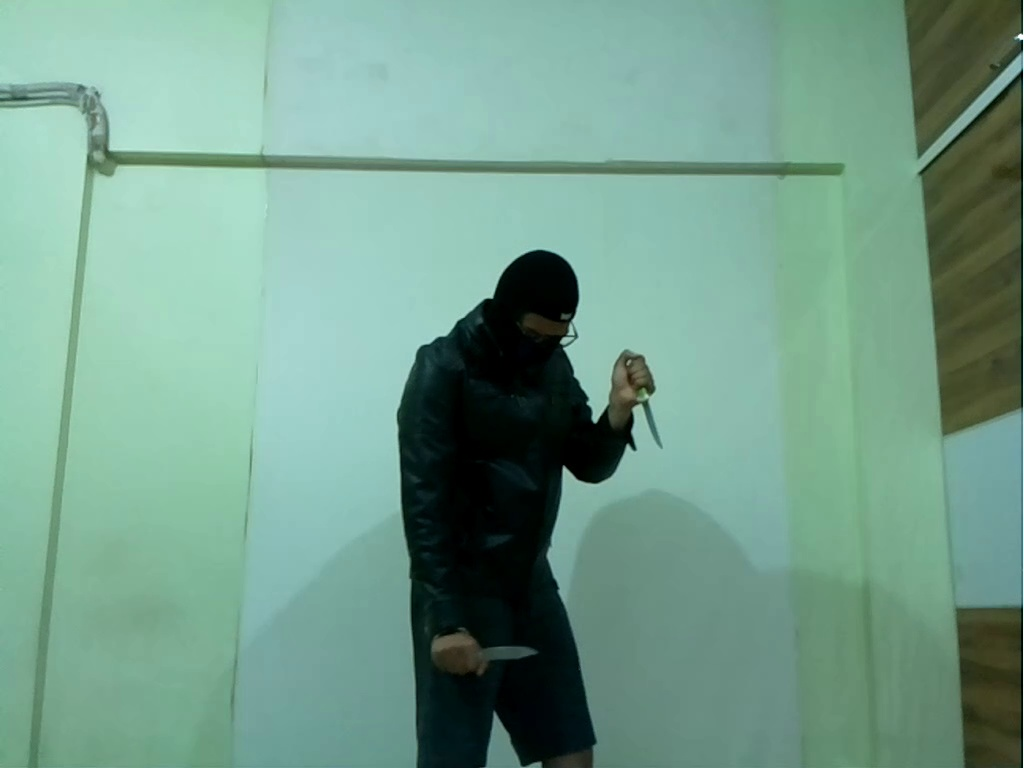knife: (632, 388, 673, 460), (457, 643, 547, 667)
